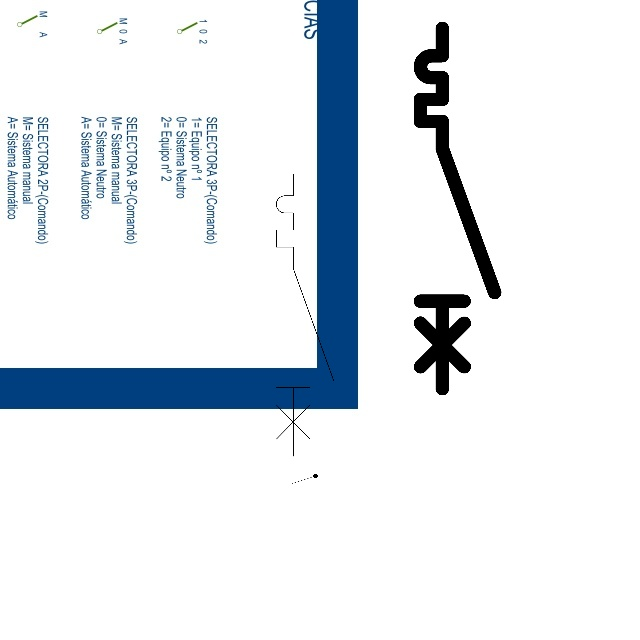interruptor_termomagnetico: (411, 19, 504, 398), (269, 167, 341, 463)
